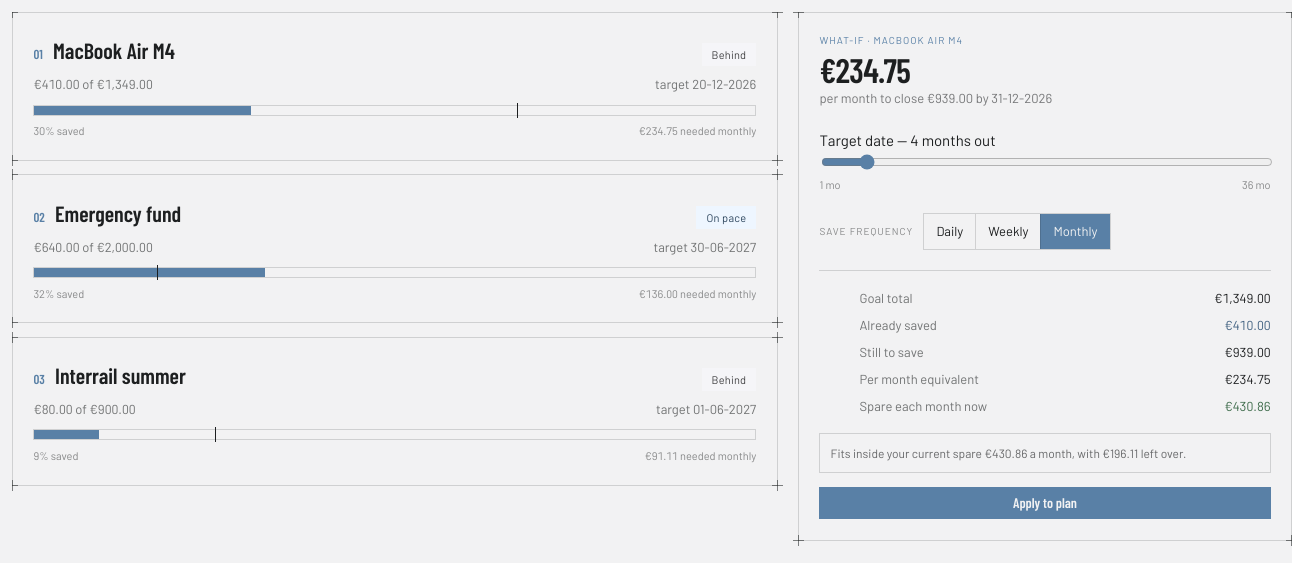
Test: GoalsPage - the what-if (BR-11) › points at another goal when it is chosen
expect the text "Emergency fund" is shown: met, box top-left (55, 196), bottom-right (181, 230)
Click the button "Emergency fund" at {"x": 395, "y": 249}, box top-left (12, 174), bottom-right (778, 323)
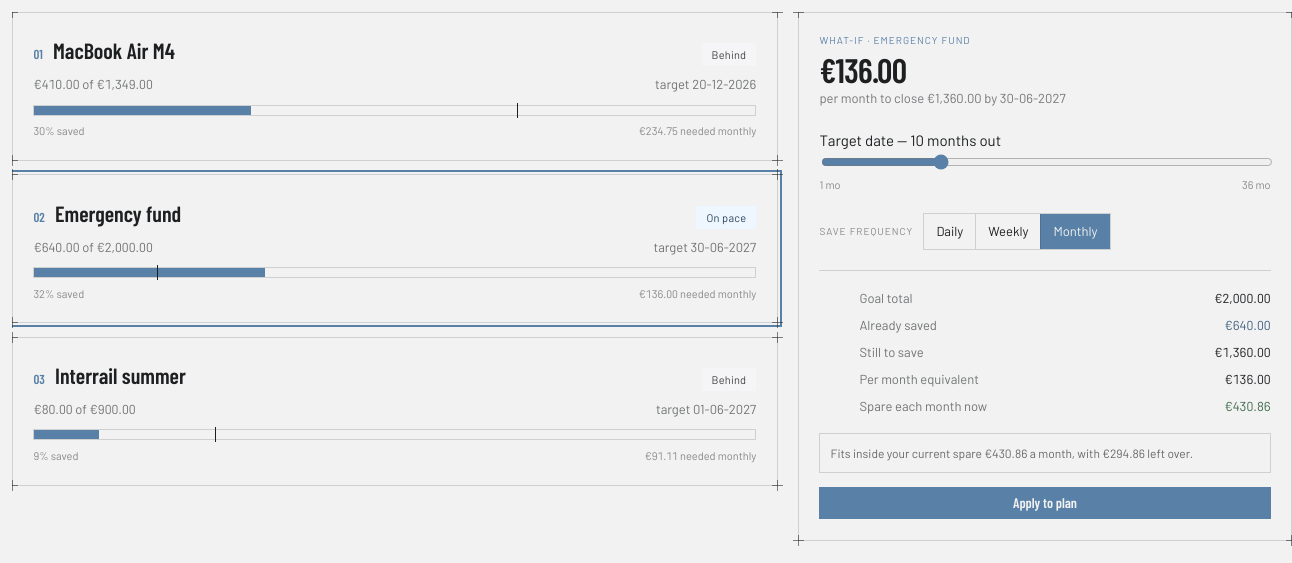
expect the text "What-if · Emergency fund" is shown: met, box top-left (819, 34), bottom-right (970, 46)
